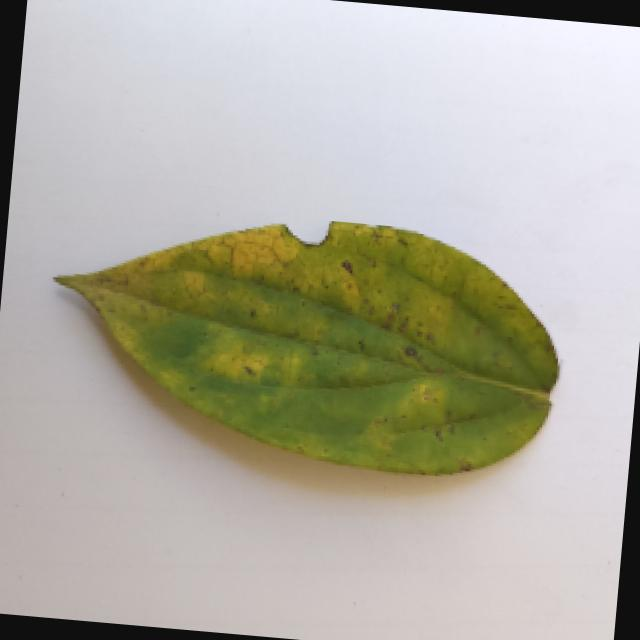slow-decline: (38, 200, 573, 490)
